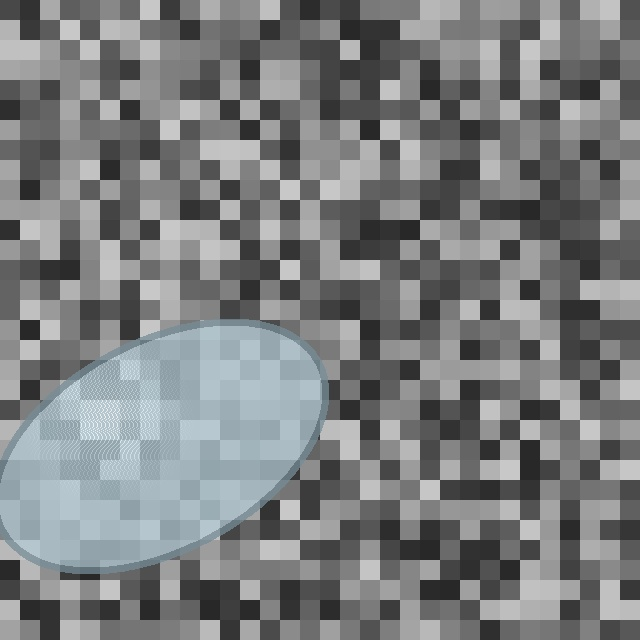lens: (0, 322, 325, 570)
